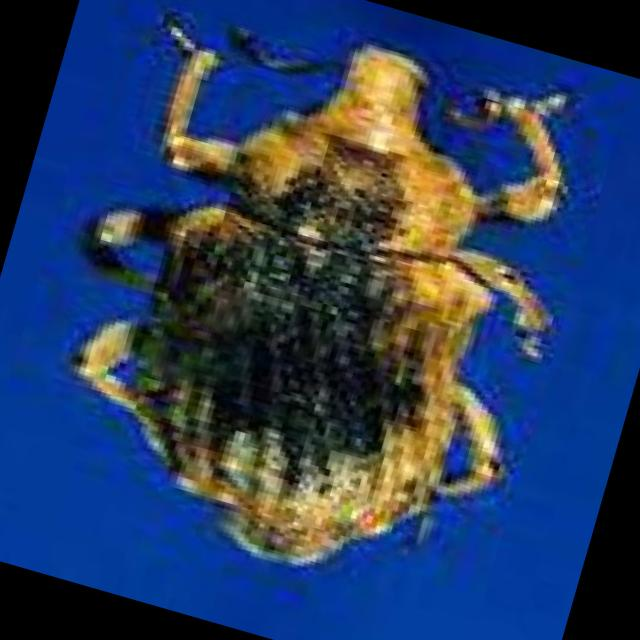rice-bug: (11, 0, 624, 621)
